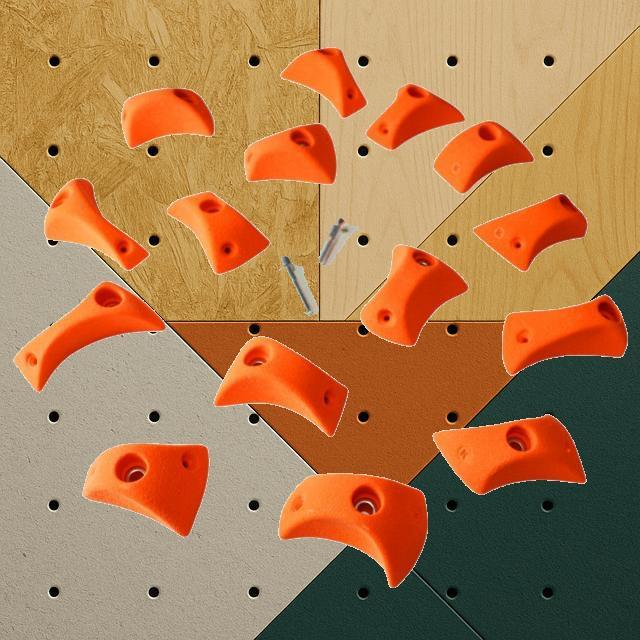Pinch: (278, 472, 428, 588), (13, 280, 165, 392), (212, 335, 348, 437), (432, 414, 586, 494), (82, 442, 208, 536), (360, 244, 468, 346), (500, 294, 628, 374), (44, 178, 148, 270), (472, 192, 588, 272), (166, 190, 270, 274), (433, 119, 533, 193), (365, 82, 465, 150), (279, 46, 366, 118), (120, 86, 214, 148), (243, 123, 337, 185)
